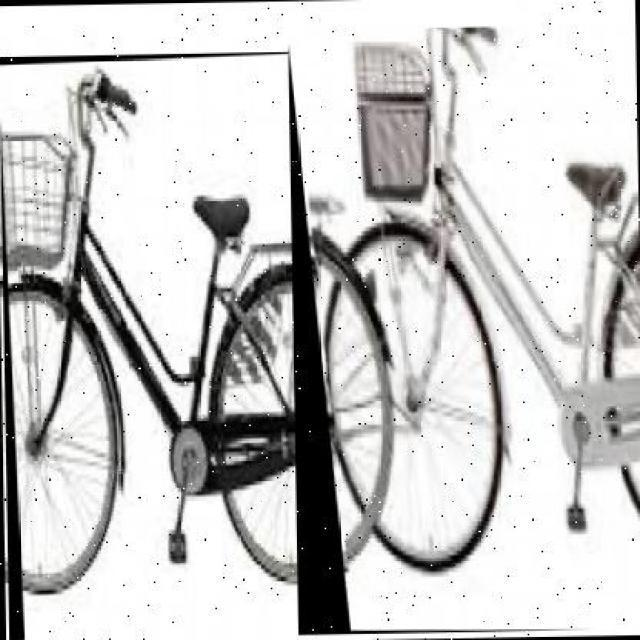bicycle: (1, 51, 378, 640), (286, 24, 640, 640)
